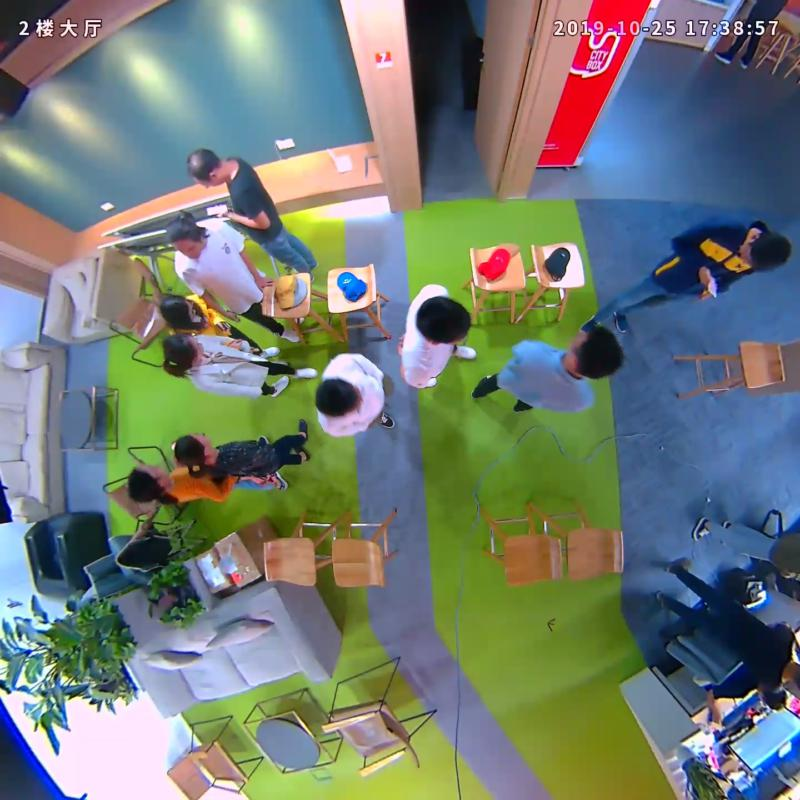head: (569, 327, 623, 381), (415, 295, 470, 345), (739, 232, 792, 272), (315, 377, 360, 418), (127, 463, 168, 504), (161, 333, 205, 370), (166, 217, 204, 259), (185, 147, 222, 187), (174, 433, 213, 468), (159, 295, 196, 326)
